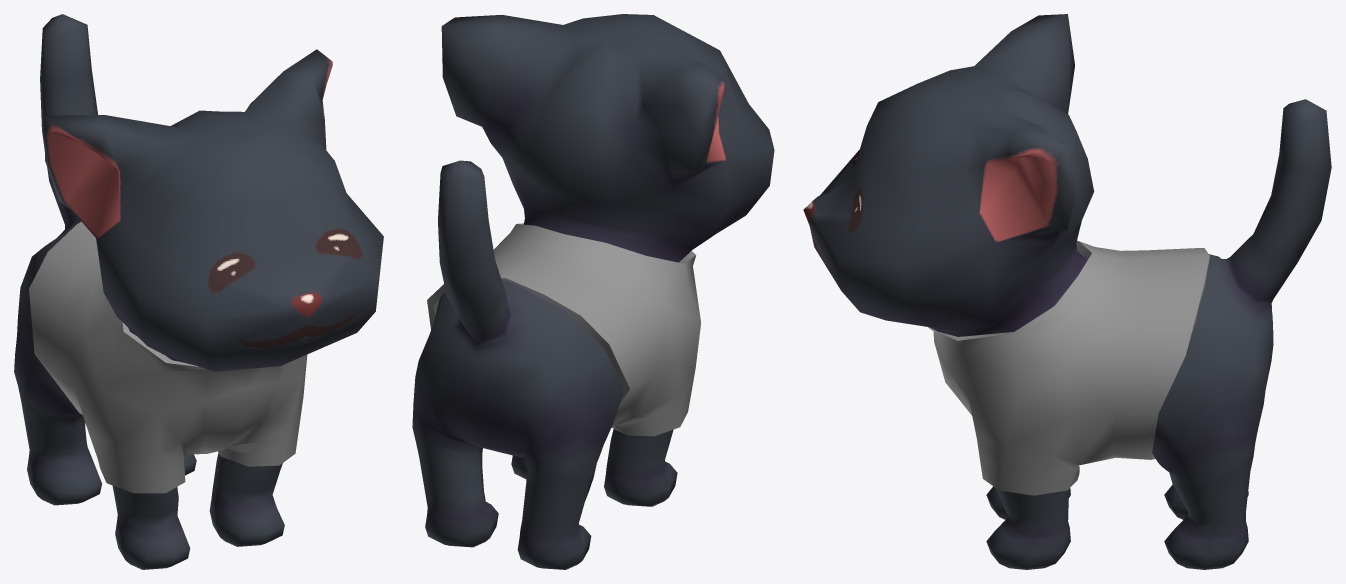
File: CSO Cat03.fbx
3 views of the same model, side by side, from view 1: azimuth 30°, elevation 25°; view 2: azimuth 150°, elevation 25°; view 3: azimuth 270°, elevation 25° (orthographic). The views are drawn at different scales.
Visible parts, largest first — view 1: Cat_Base002, tshirt001; view 2: Cat_Base002, tshirt001; view 3: Cat_Base002, tshirt001.
Boxes of the visible parts, bbox=[...] form: Cat_Base002: bbox=[14, 14, 383, 569]; tshirt001: bbox=[29, 221, 307, 493]; Cat_Base002: bbox=[412, 14, 774, 569]; tshirt001: bbox=[427, 223, 700, 436]; Cat_Base002: bbox=[803, 14, 1331, 569]; tshirt001: bbox=[928, 240, 1209, 495].
Size of the model in its own units: 1.75 by 2.83 by 2.68.
2 materials, 1 textured.
